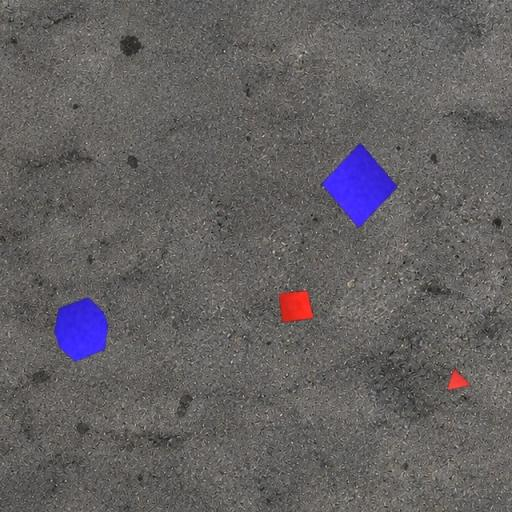BLUE_SQUARE: (321, 142, 399, 228)
RED_SQUARE: (278, 290, 314, 324)
